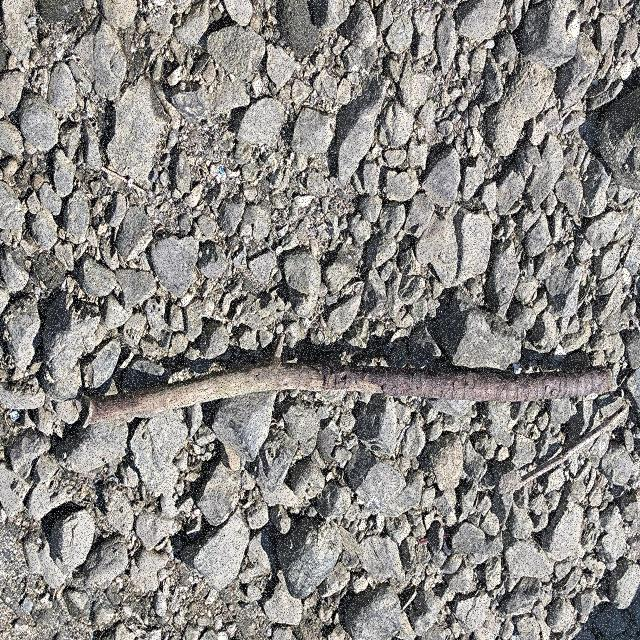wood_waste: (79, 365, 617, 429)
